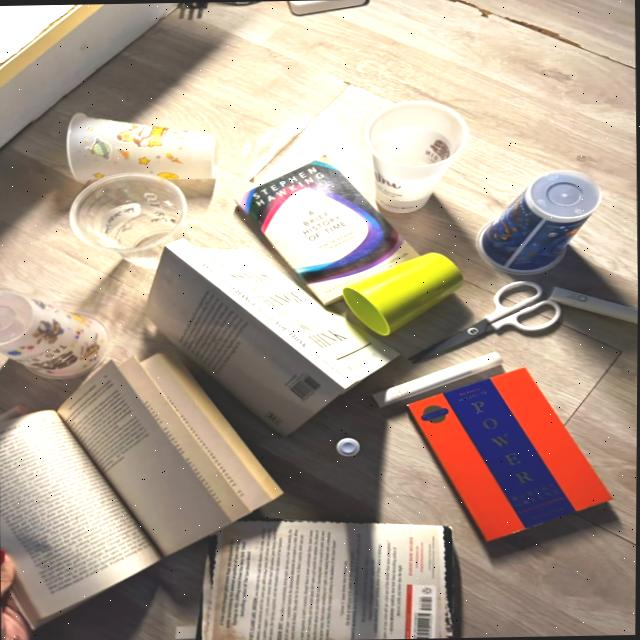Book: (0, 353, 283, 624), (148, 239, 397, 435), (408, 367, 611, 541), (202, 520, 461, 640), (239, 156, 417, 303)
HighLight Pen: (373, 352, 502, 407), (548, 286, 638, 324), (337, 438, 360, 456)
Plastic Cup: (478, 170, 601, 276), (365, 101, 469, 212), (70, 174, 187, 267), (66, 112, 218, 183), (0, 289, 108, 379)
Scissors: (414, 281, 561, 360)
WaterGlass: (343, 252, 463, 335)
